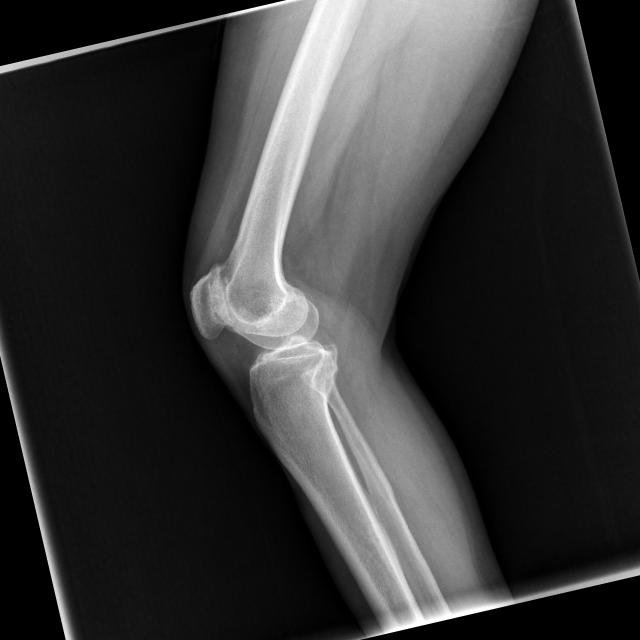Knee: (178, 231, 352, 434)
